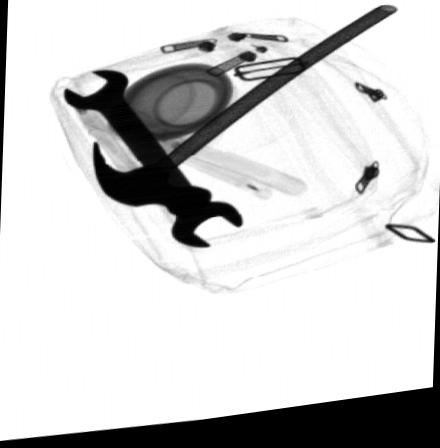Hammer: (91, 15, 401, 221)
Wrench: (63, 72, 244, 253)
